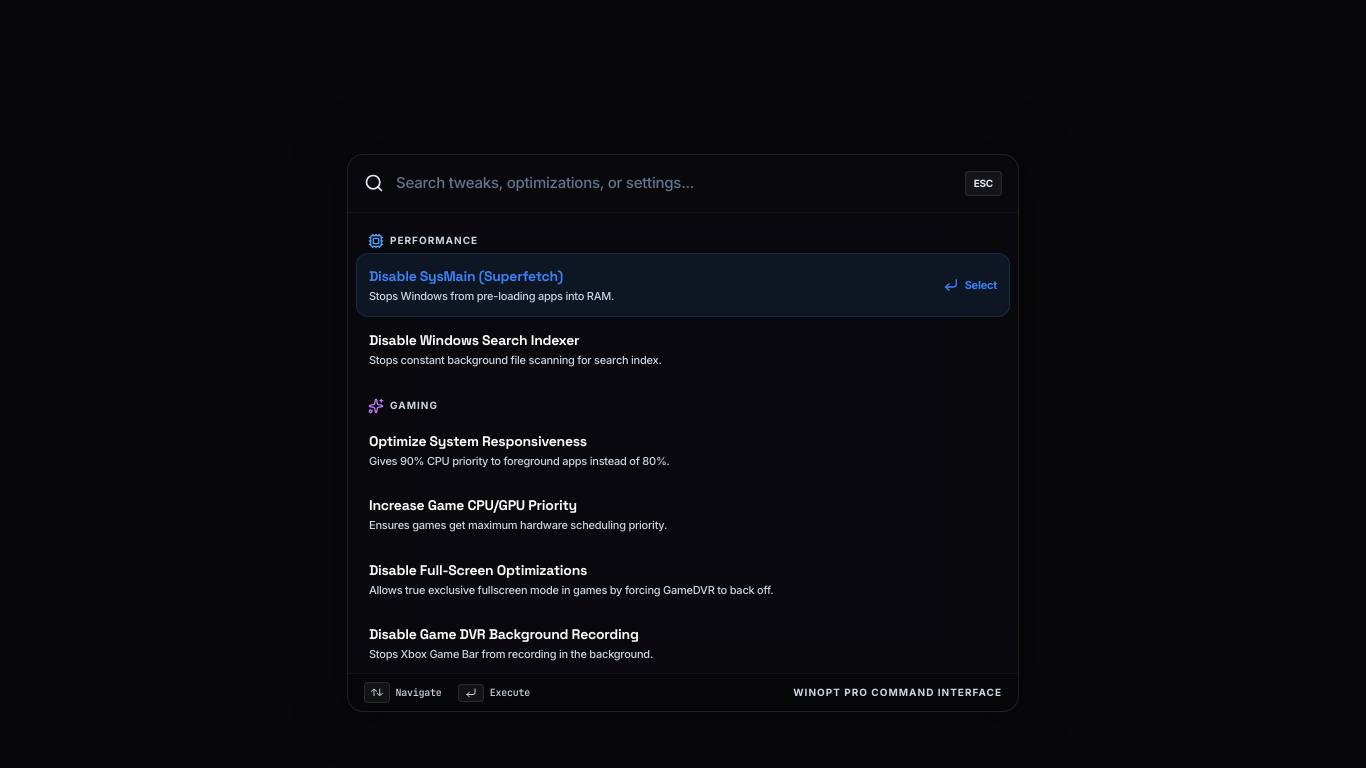
Test: CommandPalette › shows empty state when no results match
Type "xyzzy_nothing_matches" into the field with placeholder "Search tweaks, optimizations, or settings..." at (680, 183), box [396,172,965,194]
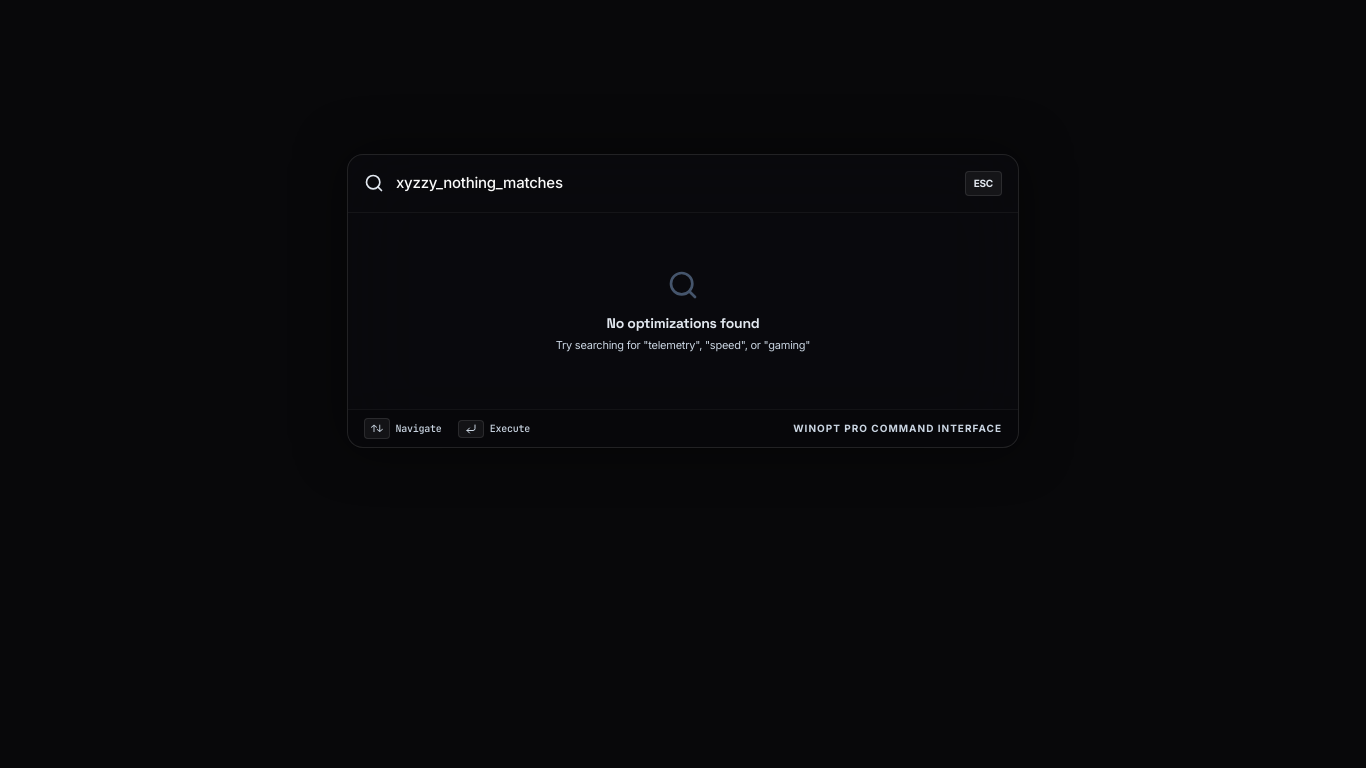
expect the heading "No optimizations found" is shown: met, box [606,314,760,332]
